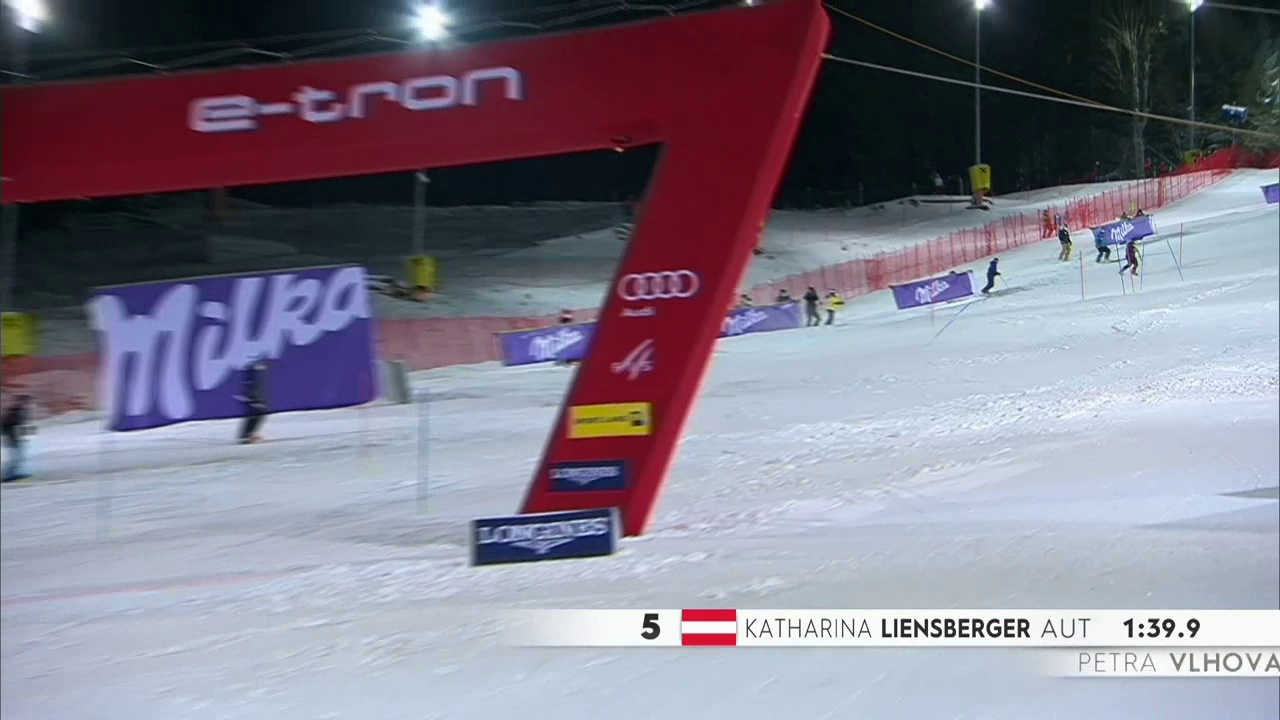audi: (611, 268, 711, 309)
etron: (215, 65, 498, 143)
longines: (465, 511, 625, 565), (544, 462, 634, 487)
milka: (89, 261, 376, 437)
